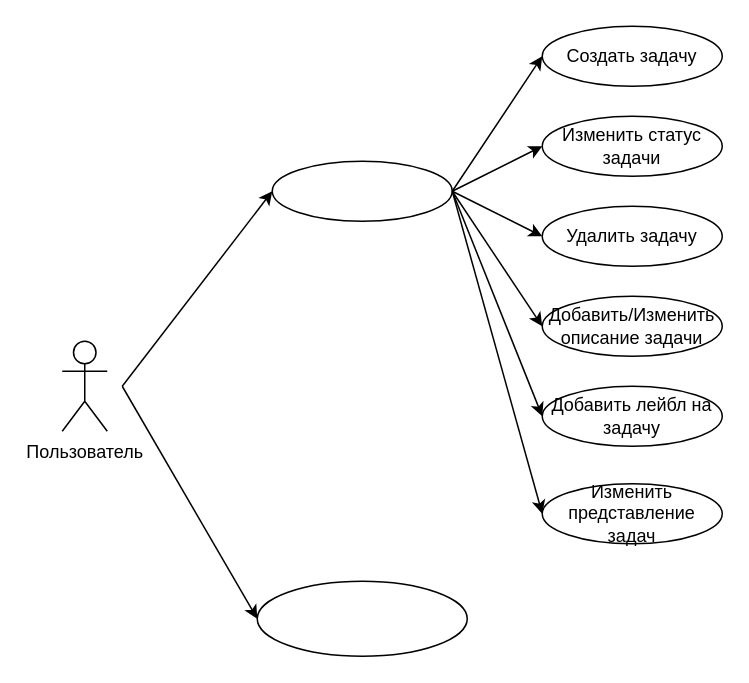
The diagram is 749 pixels wide and 683 high, and some of its shapes have lost their labels. The shapes that lost their labels are listed below. From the top down, each one's centre as x and y in pixels, then its label:
At (x=361, y=190): "Создать рабочую область".
At (x=361, y=618): "Построить диаграмму выполненных задач".
